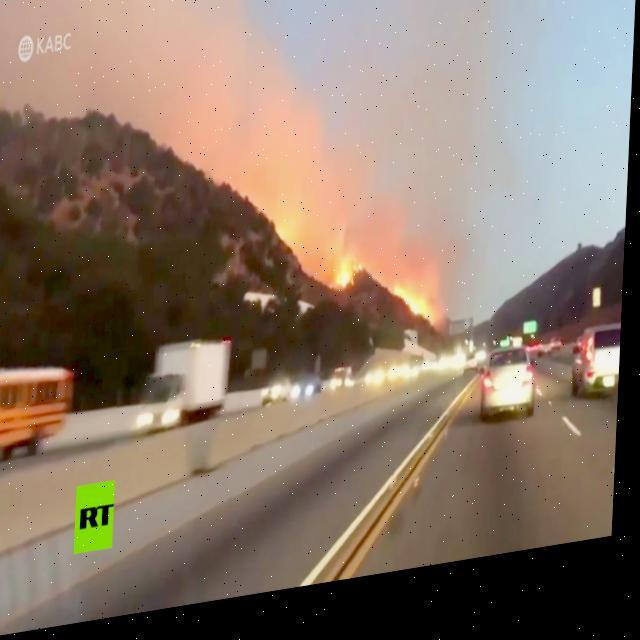Fire: (393, 296, 443, 348), (338, 258, 370, 306)
